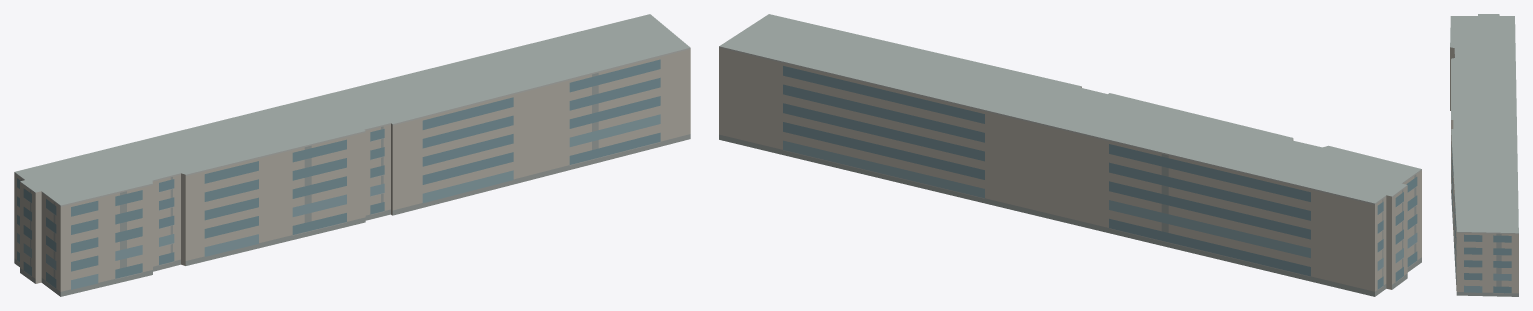
File: survey-upis-32459271.glb
The picture shows the model from 3 angles, left to right: view 1: azimuth 30°, elevation 25°; view 2: azimuth 150°, elevation 25°; view 3: azimuth 270°, elevation 25°; orthographic projection. The views are drawn at different scales.
Parts seen in each view (by area): view 1: survey-upis-32459271.tmp; view 2: survey-upis-32459271.tmp; view 3: survey-upis-32459271.tmp.
Boxes of the visible parts, x1,y1,x2,y2 form: survey-upis-32459271.tmp: (14,14,690,296); survey-upis-32459271.tmp: (719,14,1421,296); survey-upis-32459271.tmp: (1450,14,1518,296).
Bounding box in the file's own units: 113 × 15.25 × 14.95.
